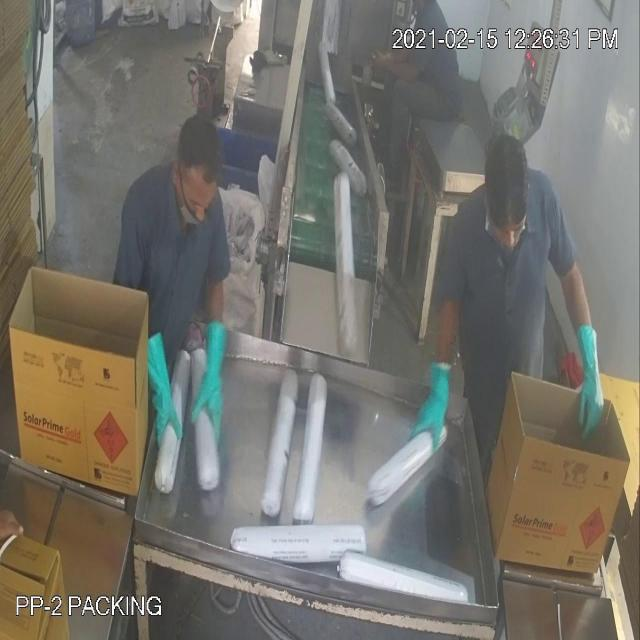Gloves: (34, 46, 591, 410)
